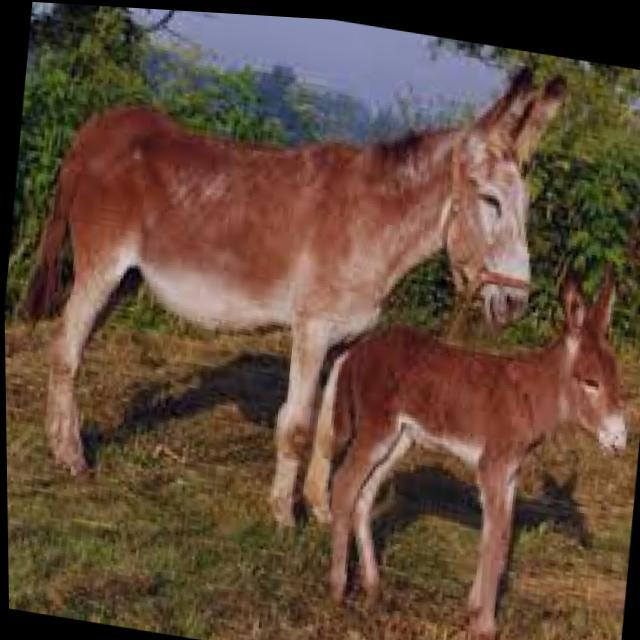Donkey: (7, 0, 585, 558), (291, 229, 640, 640)
